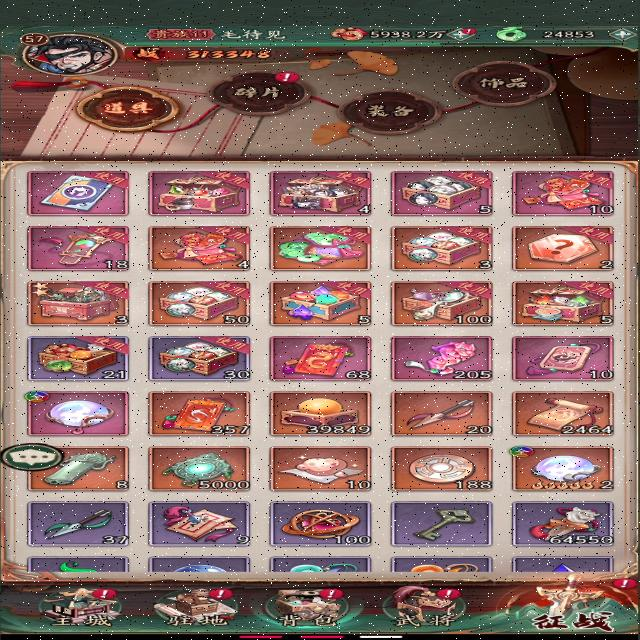hint-reddot: (316, 585, 346, 602), (270, 70, 304, 85), (428, 586, 465, 599), (606, 575, 637, 590), (209, 587, 235, 600), (90, 588, 116, 599), (454, 25, 479, 35)
navigation-bag: (261, 585, 373, 630)
navigation-fight: (499, 580, 631, 634)
navigation-hero: (387, 583, 471, 630)
navigation-main: (23, 584, 128, 628)
navigation-role: (13, 28, 124, 81)
navigation-station-on: (154, 582, 252, 629)
operation-decorate: (447, 57, 569, 108)
operation-equipment: (335, 85, 448, 136)
operation-pieces: (204, 68, 316, 118)
operation-tools: (76, 84, 180, 132)
